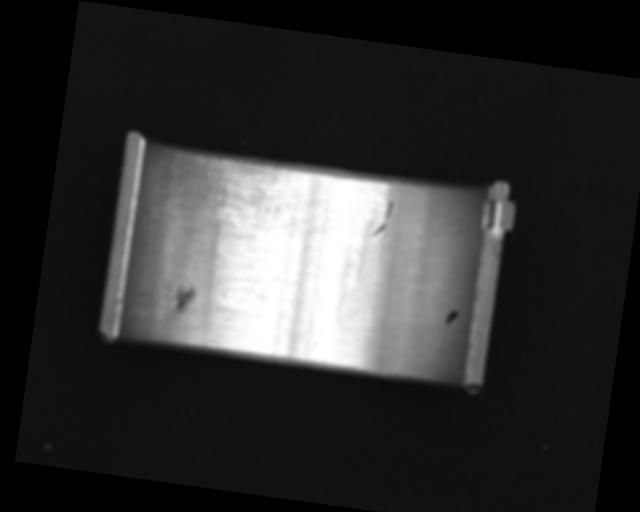blot: (444, 307, 459, 327)
bruise: (171, 280, 198, 314)
nick: (372, 198, 394, 238)
scratch: (188, 155, 331, 245)
